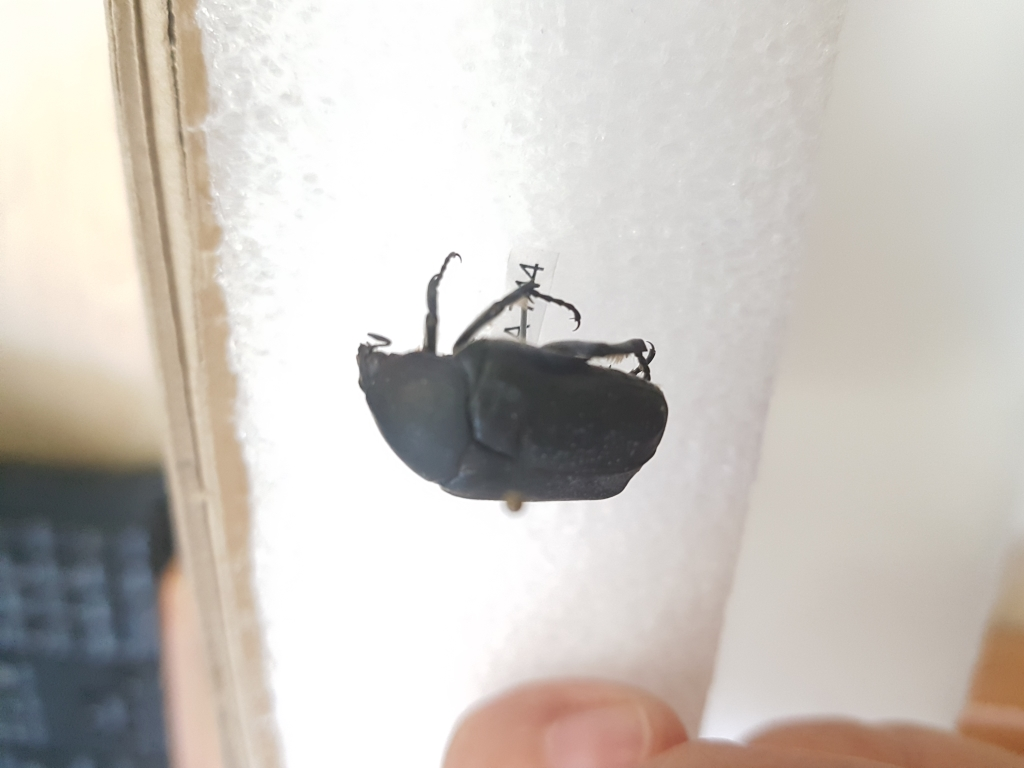Protaetia_afflicta: (351, 244, 676, 520)
